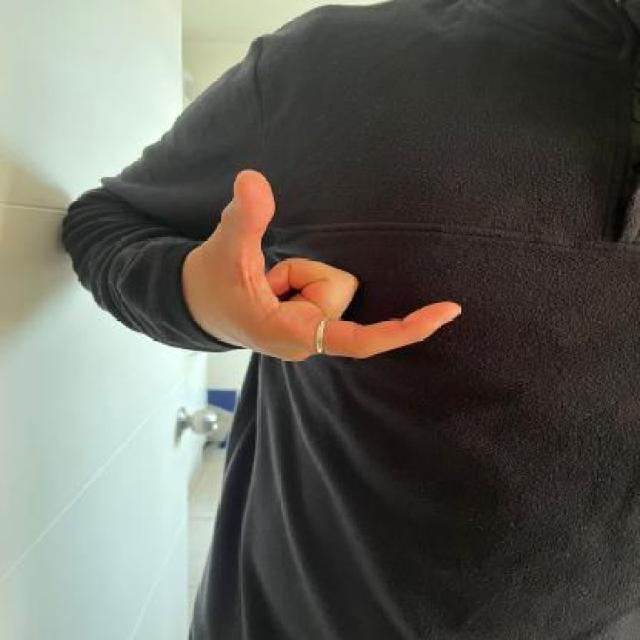G: (196, 162, 475, 372)
